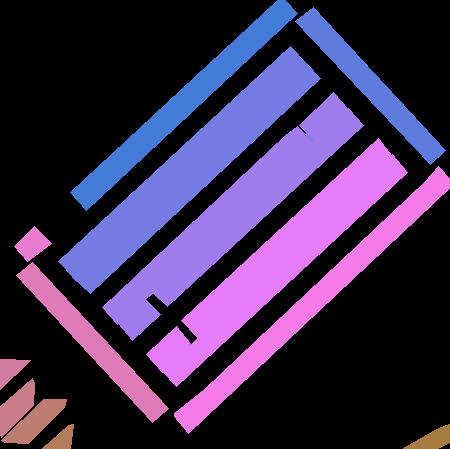parkingspot: (174, 166, 450, 433), (58, 46, 305, 278), (72, 62, 320, 293), (162, 154, 407, 386), (70, 0, 297, 210), (181, 138, 392, 338), (152, 108, 363, 306), (102, 126, 312, 324), (16, 262, 168, 422), (295, 7, 445, 164), (1, 399, 66, 443), (299, 92, 347, 141), (146, 326, 190, 372), (0, 378, 34, 437), (118, 299, 160, 340), (14, 226, 51, 261), (400, 424, 450, 449), (0, 359, 30, 389), (41, 424, 73, 449)
